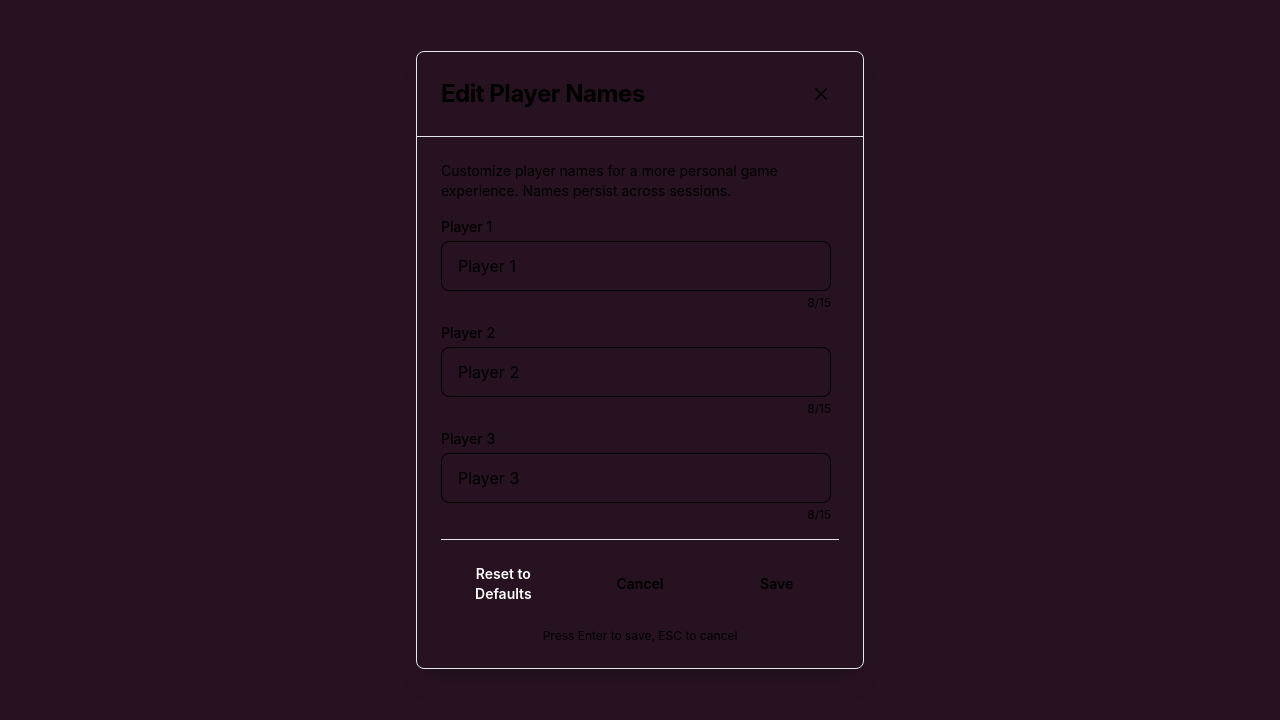
Test: PlayerNameEditor › validation › should show error for empty name
Clear the field named "Name for Player 1" at (636, 266), box [441,241,831,291]
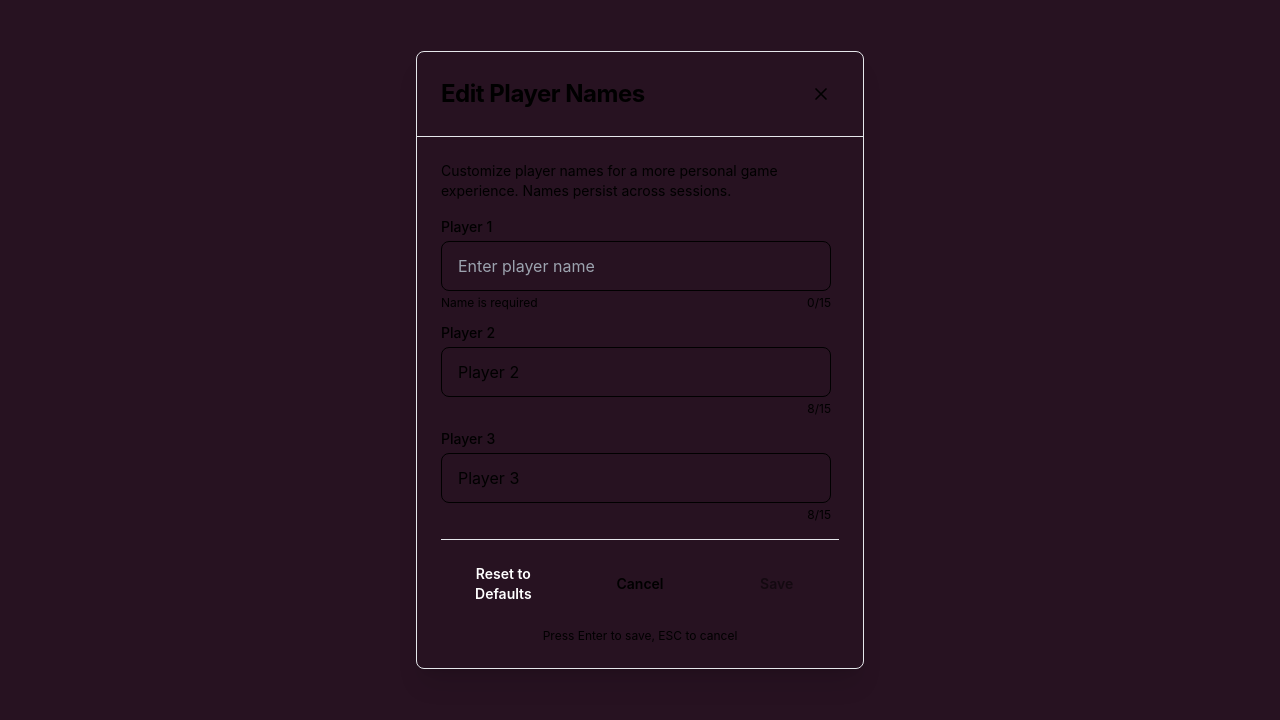
Expected: the text "Name is required" is shown, [441,295,538,311]
